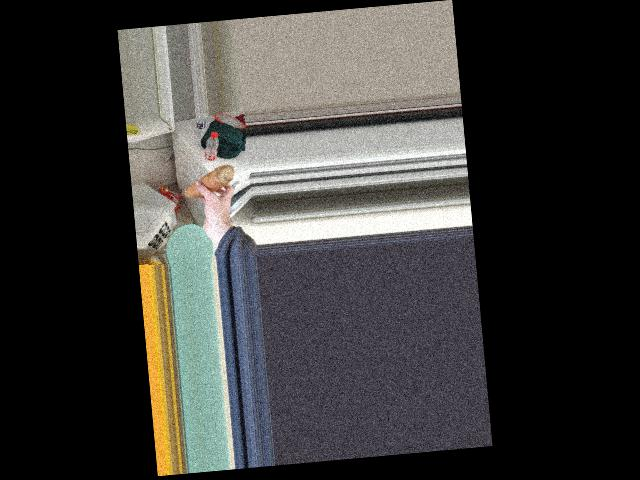sweet_potato: (182, 162, 233, 203)
